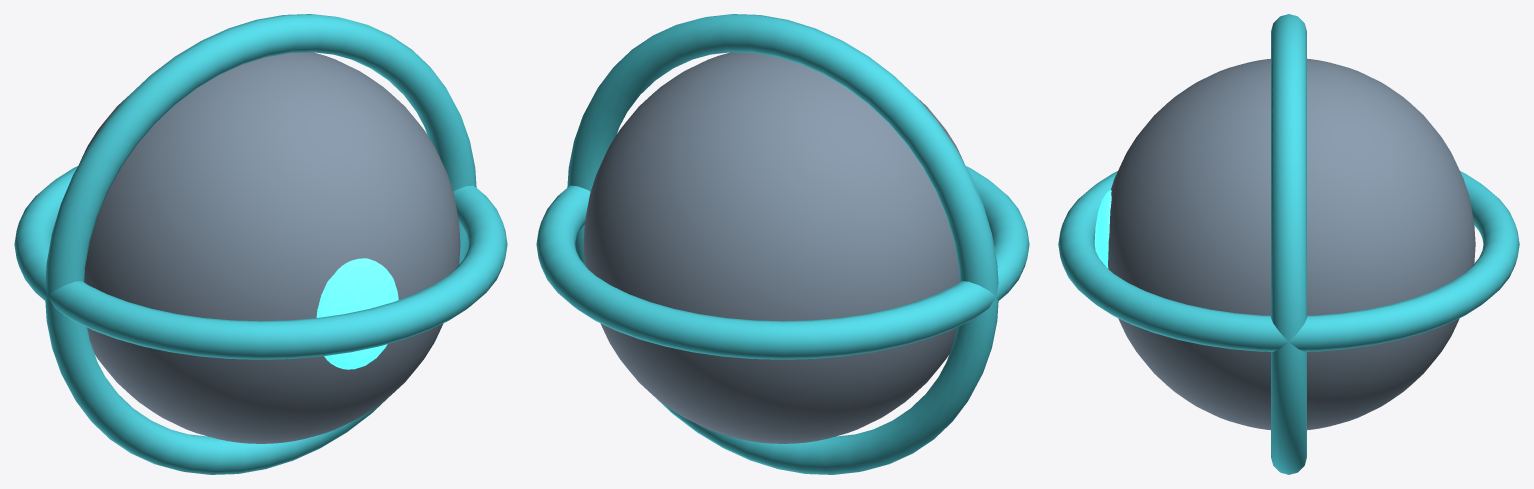
The model's file is trinket_v7.glb.
3 views of the same model, side by side, from view 1: azimuth 30°, elevation 25°; view 2: azimuth 150°, elevation 25°; view 3: azimuth 270°, elevation 25° (orthographic). The views are drawn at different scales.
Parts seen in each view (by area): view 1: GIANT_PEARL_PRIMARY, PEARL_CAGE_B_ACCENT, PEARL_CAGE_A_ACCENT, PEARL_GLOW_EMISSIVE; view 2: GIANT_PEARL_PRIMARY, PEARL_CAGE_B_ACCENT, PEARL_CAGE_A_ACCENT; view 3: GIANT_PEARL_PRIMARY, PEARL_CAGE_A_ACCENT, PEARL_CAGE_B_ACCENT, PEARL_GLOW_EMISSIVE.
Boxes of the visible parts, left/top/right/bottom form: GIANT_PEARL_PRIMARY: left=80, top=52, right=460, bottom=443; PEARL_CAGE_B_ACCENT: left=45, top=14, right=476, bottom=474; PEARL_CAGE_A_ACCENT: left=14, top=166, right=507, bottom=359; PEARL_GLOW_EMISSIVE: left=316, top=258, right=398, bottom=369; GIANT_PEARL_PRIMARY: left=583, top=52, right=963, bottom=443; PEARL_CAGE_B_ACCENT: left=567, top=14, right=998, bottom=474; PEARL_CAGE_A_ACCENT: left=536, top=166, right=1029, bottom=359; GIANT_PEARL_PRIMARY: left=1108, top=58, right=1475, bottom=430; PEARL_CAGE_A_ACCENT: left=1058, top=171, right=1519, bottom=351; PEARL_CAGE_B_ACCENT: left=1271, top=14, right=1306, bottom=474; PEARL_GLOW_EMISSIVE: left=1094, top=190, right=1111, bottom=268.
Size of the model in its own units: 1.78 by 1.78 by 1.78.
